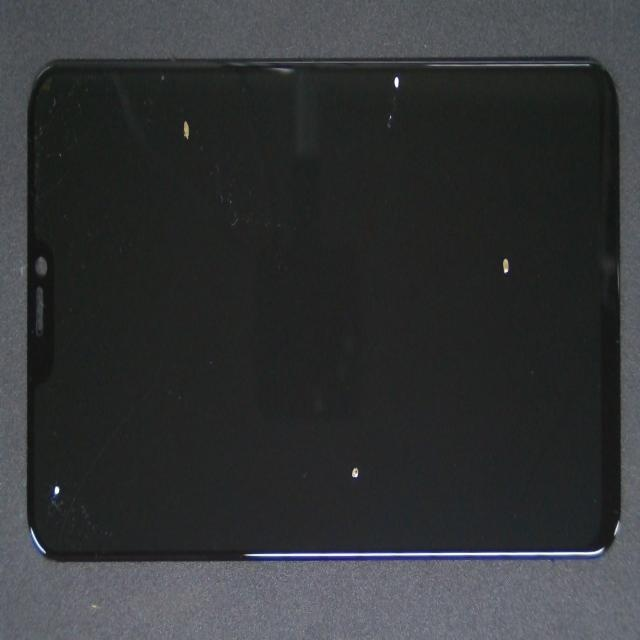stain: (190, 219, 521, 640), (260, 98, 640, 364), (161, 0, 568, 154), (0, 258, 89, 640), (83, 36, 261, 182)
